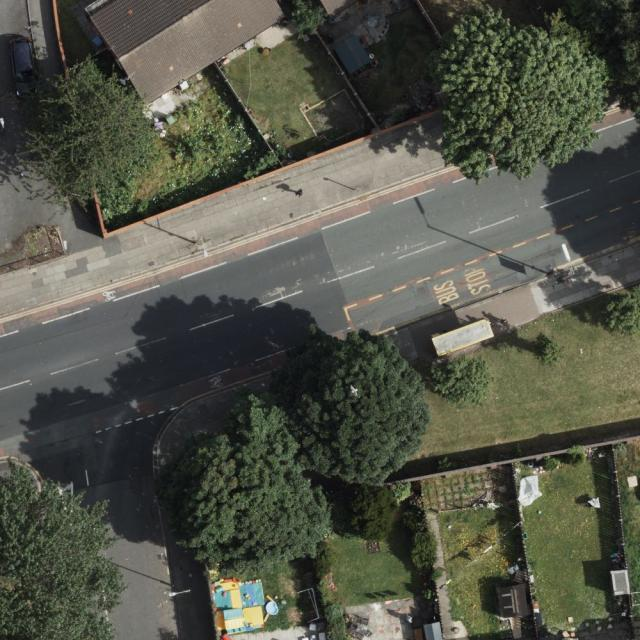roof: (91, 0, 287, 106)
